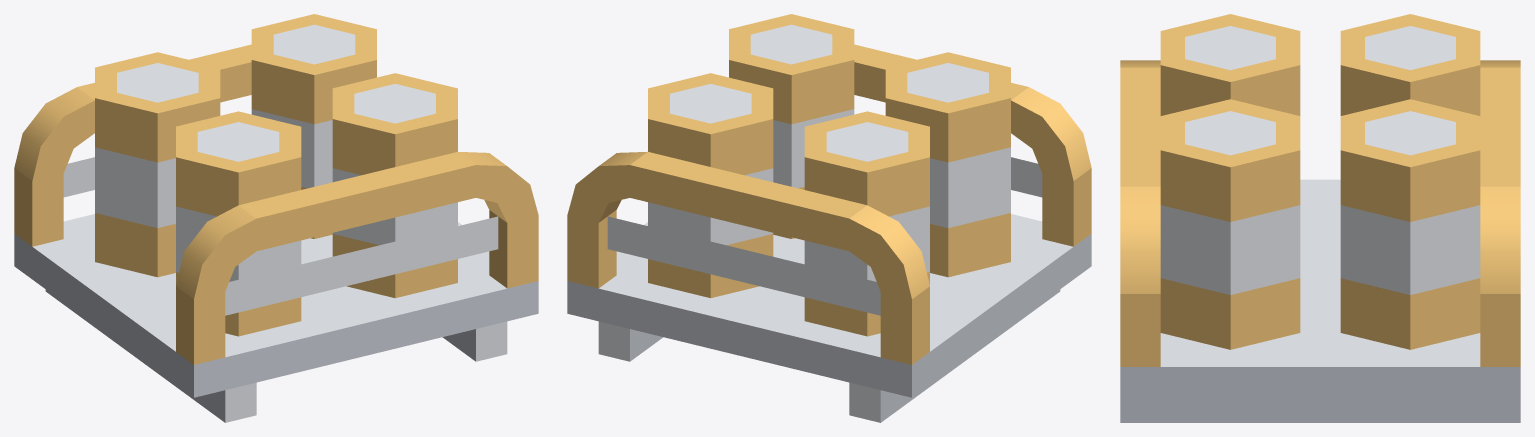
Rendered from barrels_rail.glb.
3 views of the same model, side by side, from view 1: azimuth 30°, elevation 25°; view 2: azimuth 150°, elevation 25°; view 3: azimuth 270°, elevation 25° (orthographic). The views are drawn at different scales.
Visible parts, largest first — view 1: barrels_rail, barrel (×4); view 2: barrels_rail, barrel (×4); view 3: barrel (×4), barrels_rail.
Part boxes in pixels (left/top/right/bottom): barrels_rail: left=14, top=44, right=538, bottom=422; barrel (×4): left=95, top=14, right=457, bottom=336; barrels_rail: left=567, top=44, right=1091, bottom=422; barrel (×4): left=648, top=14, right=1010, bottom=336; barrel (×4): left=1160, top=14, right=1480, bottom=349; barrels_rail: left=1120, top=60, right=1520, bottom=422.
Size of the model in its own units: 0.55 by 0.35 by 0.4964.
1 material, 1 textured.
